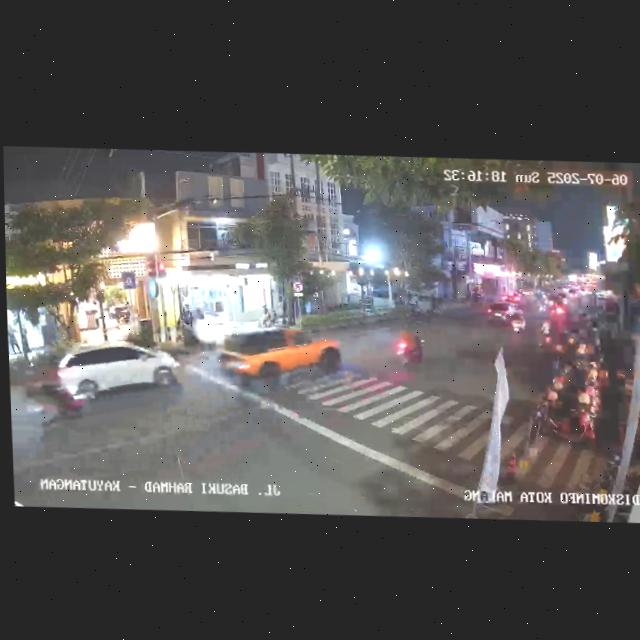car: (48, 337, 182, 410), (213, 322, 337, 394), (485, 298, 523, 326)
motorcycle: (34, 368, 93, 434), (393, 328, 427, 377), (503, 305, 525, 335), (537, 315, 554, 349)
person: (8, 324, 22, 356)
